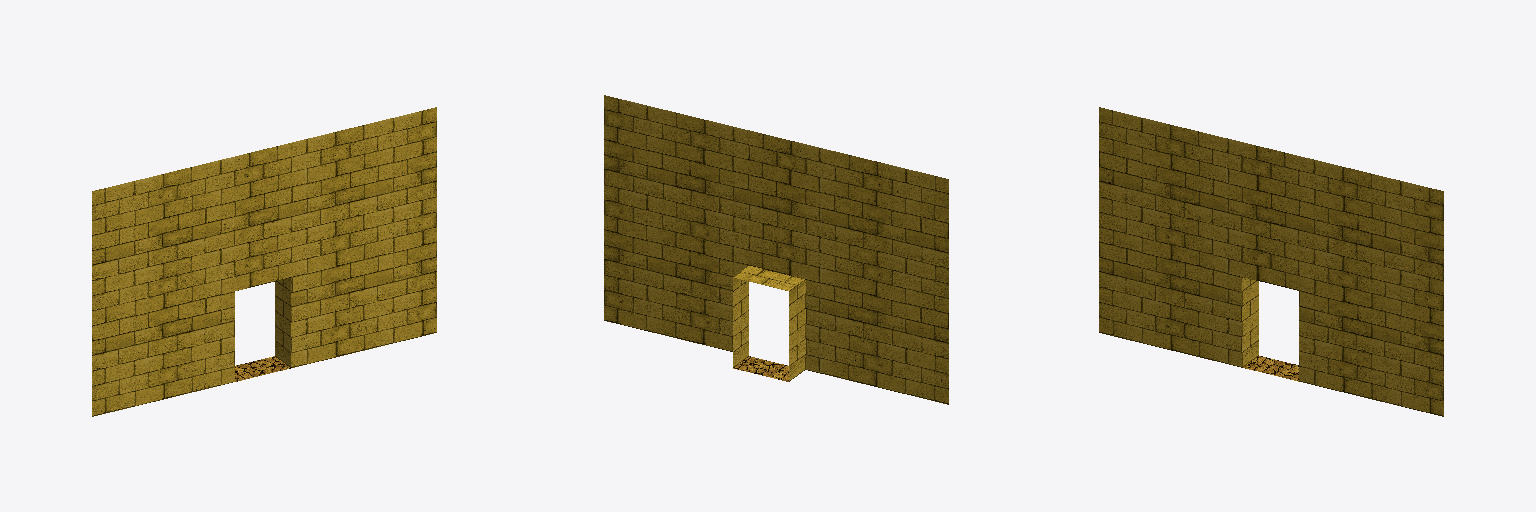
3 views of the same model, side by side, from view 1: azimuth 30°, elevation 25°; view 2: azimuth 150°, elevation 25°; view 3: azimuth 330°, elevation 25° (orthographic).
Parts seen in each view (by area): view 1: brick_wall_x1_port_long; view 2: brick_wall_x1_port_long; view 3: brick_wall_x1_port_long.
Part boxes in pixels (x1,y1,x2,y2): brick_wall_x1_port_long: (92, 107, 436, 416); brick_wall_x1_port_long: (604, 95, 948, 404); brick_wall_x1_port_long: (1099, 107, 1443, 416).
Bounding box in the file's own units: 800 × 500 × 67.
2 materials, 2 textured.